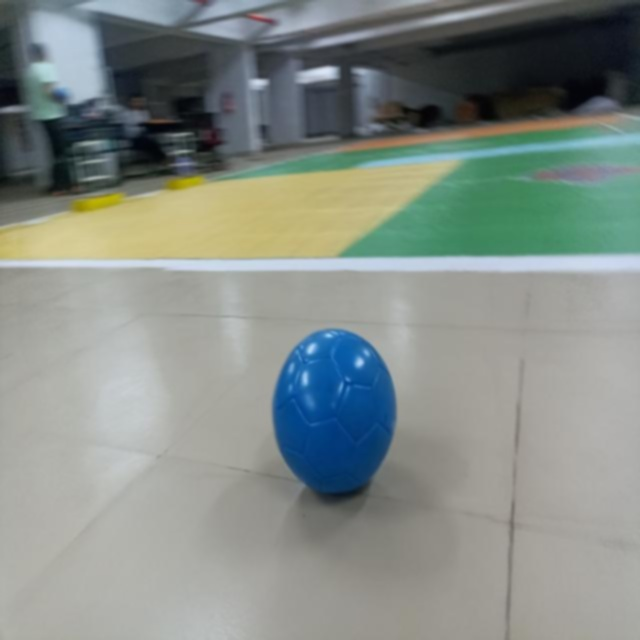blue_ball: (258, 306, 417, 496)
silo: (165, 120, 198, 181), (77, 131, 108, 195), (108, 133, 109, 139)
